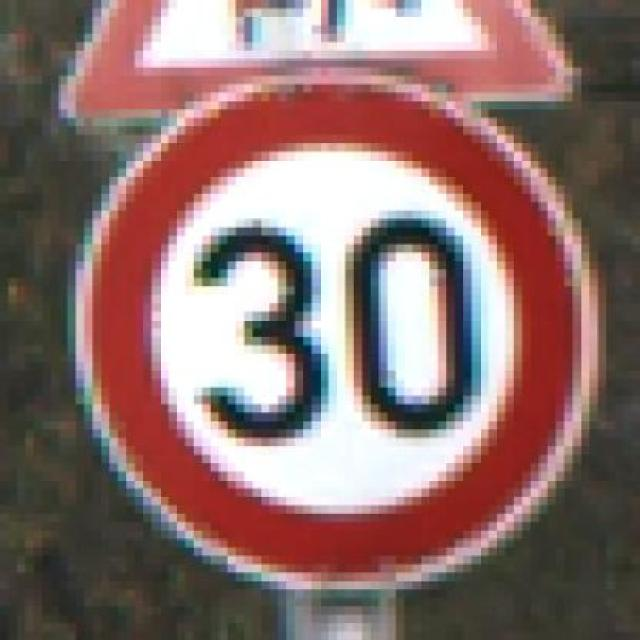Speed Limit 30 KMPh: (25, 59, 623, 598)
